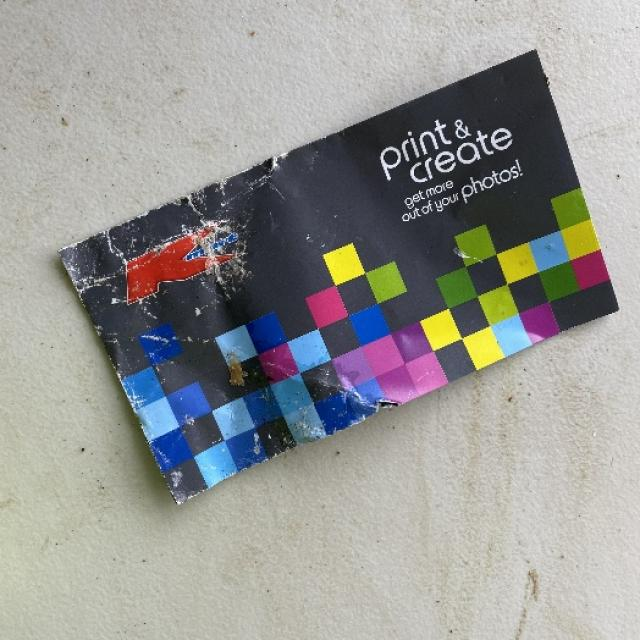paper: (56, 48, 619, 506)
